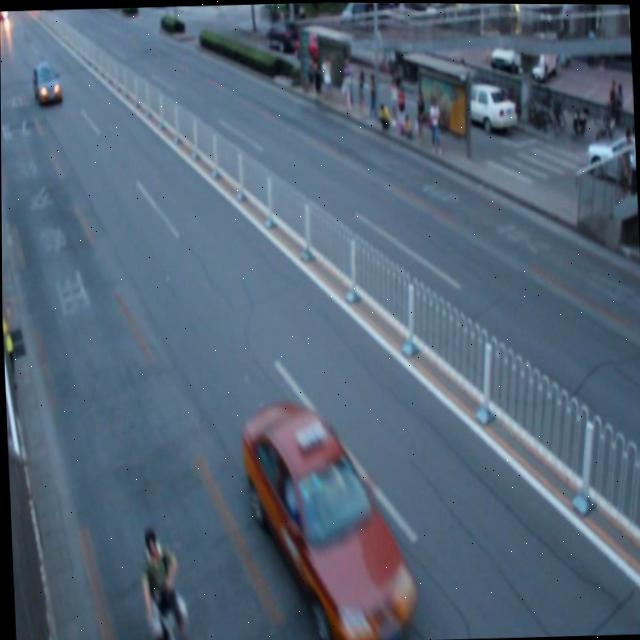car: (237, 395, 417, 638), (31, 58, 63, 110)
